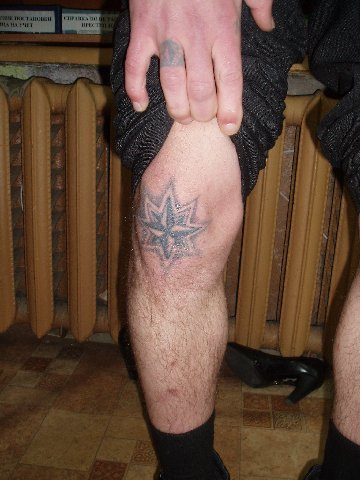tatu4_zvezda: (130, 183, 207, 264)
